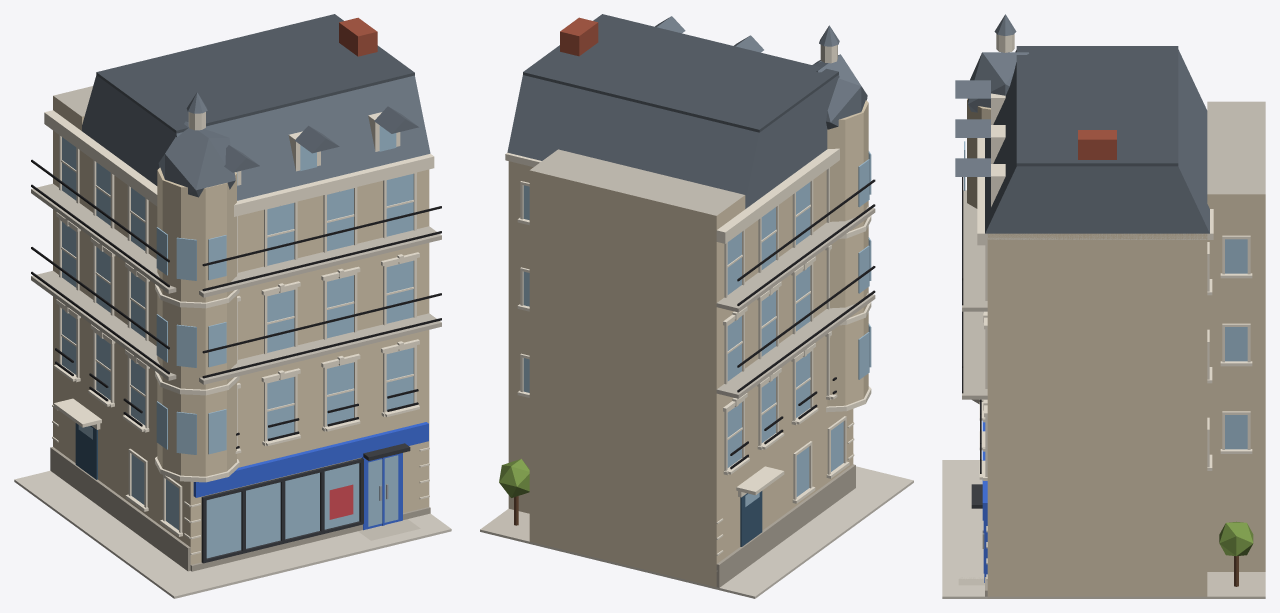
Rendered from Blok_kose_4k_1_Hafif.fbx.
The picture shows the model from 3 angles, left to right: view 1: azimuth 30°, elevation 25°; view 2: azimuth 150°, elevation 25°; view 3: azimuth 270°, elevation 25°; orthographic projection.
Visible parts, largest first — view 1: Blok_kose_4k_1_Hafif; view 2: Blok_kose_4k_1_Hafif; view 3: Blok_kose_4k_1_Hafif.
Part boxes in pixels (box(x1,y1,x2,y2)): Blok_kose_4k_1_Hafif: box(14, 14, 451, 598); Blok_kose_4k_1_Hafif: box(480, 14, 913, 598); Blok_kose_4k_1_Hafif: box(942, 14, 1265, 598).
Size of the model in its own units: 10 by 16.27 by 10.
